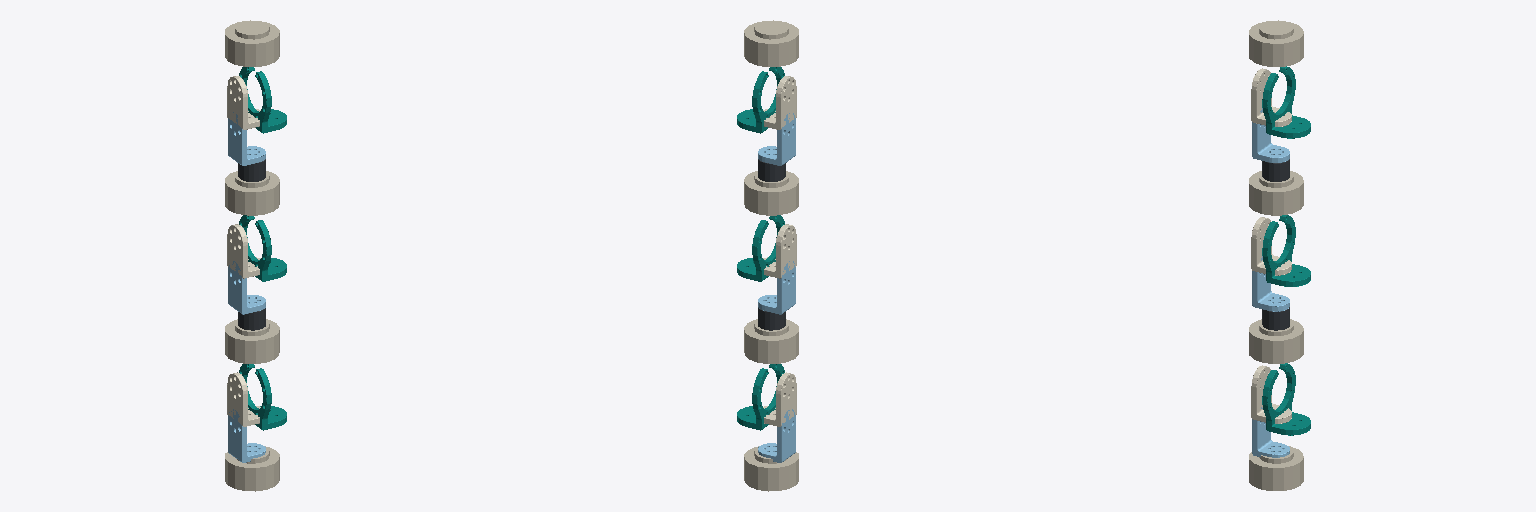
robot.urdf — simple_assembly:
<!--URDF generated by ONSHAPE BY PTC INC, 1.213-->
<robot name="simple_assembly">
    <link name="part_1">
        <inertial>
            <mass value="0.392289" />
            <origin xyz="-7.19431e-18 2.31112e-33 0.02825" rpy="0 -0 0" />
            <inertia ixx="0.000184016" ixy="0" ixz="0" iyy="0.000184016" iyz="0" izz="0.000159318" />
        </inertial>
        <visual>
            <origin xyz="-5.31105e-18 -1.74512e-18 0" rpy="0 -0 0" />
            <geometry>
                <mesh filename="package://simple_assembly/meshes/Part 1.stl" scale="1 1 1" />
            </geometry>
            <material name="0.800000_0.776471_0.713725_0.000000_0.000000">
                <texture />
                <color rgba="0.8 0.776471 0.713726 1" />
            </material>
        </visual>
    </link>
    <link name="part_1_1">
        <inertial>
            <mass value="0.347331" />
            <origin xyz="0.020796 1.20964e-08 -0.0428943" rpy="0 -0 0" />
            <inertia ixx="0.000768882" ixy="-1.68717e-10" ixz="0.000128098" iyy="0.00060734" iyz="8.33311e-11" izz="0.000443472" />
        </inertial>
        <visual>
            <origin xyz="1.47451e-17 5.86445e-18 -0.06225" rpy="0 -0 0" />
            <geometry>
                <mesh filename="package://simple_assembly/meshes/Part 1_1.stl" scale="1 1 1" />
            </geometry>
            <material name="0.094118_0.580392_0.545098_0.000000_0.000000">
                <texture />
                <color rgba="0.0941176 0.580392 0.545098 1" />
            </material>
        </visual>
    </link>
    <link name="part_1_10">
        <inertial>
            <mass value="0.347331" />
            <origin xyz="0.020796 1.20964e-08 -0.0428943" rpy="0 -0 0" />
            <inertia ixx="0.000768882" ixy="-1.68717e-10" ixz="0.000128098" iyy="0.00060734" iyz="8.33311e-11" izz="0.000443472" />
        </inertial>
        <visual>
            <origin xyz="1.47451e-17 5.86445e-18 -0.06225" rpy="0 -0 0" />
            <geometry>
                <mesh filename="package://simple_assembly/meshes/Part 1_1.stl" scale="1 1 1" />
            </geometry>
            <material name="0.094118_0.580392_0.545098_0.000000_0.000000">
                <texture />
                <color rgba="0.0941176 0.580392 0.545098 1" />
            </material>
        </visual>
    </link>
    <link name="part_1_11">
        <inertial>
            <mass value="0.284011" />
            <origin xyz="-0.0234111 -2.25131e-10 0.0361492" rpy="0 -0 0" />
            <inertia ixx="0.000368023" ixy="4.4845e-12" ixz="8.61899e-05" iyy="0.000382149" iyz="-7.95148e-12" izz="0.000153368" />
        </inertial>
        <visual>
            <origin xyz="0 0 -0.0002" rpy="0 -0 0" />
            <geometry>
                <mesh filename="package://simple_assembly/meshes/Part 1_3.stl" scale="1 1 1" />
            </geometry>
            <material name="0.615686_0.811765_0.929412_0.000000_0.000000">
                <texture />
                <color rgba="0.615686 0.811765 0.929412 1" />
            </material>
        </visual>
    </link>
    <link name="part_1_12">
        <inertial>
            <mass value="0.392289" />
            <origin xyz="-1.88325e-18 2.31112e-33 0.02825" rpy="0 -0 0" />
            <inertia ixx="0.000184016" ixy="0" ixz="0" iyy="0.000184016" iyz="0" izz="0.000159318" />
        </inertial>
        <visual>
            <origin xyz="0 -1.74512e-18 0" rpy="0 -0 0" />
            <geometry>
                <mesh filename="package://simple_assembly/meshes/Part 1.stl" scale="1 1 1" />
            </geometry>
            <material name="0.800000_0.776471_0.713725_0.000000_0.000000">
                <texture />
                <color rgba="0.8 0.776471 0.713726 1" />
            </material>
        </visual>
    </link>
    <link name="part_1_13">
        <inertial>
            <mass value="0.284011" />
            <origin xyz="-0.0234111 -2.25131e-10 0.0361492" rpy="0 -0 0" />
            <inertia ixx="0.000368023" ixy="4.4845e-12" ixz="8.61899e-05" iyy="0.000382149" iyz="-7.95148e-12" izz="0.000153368" />
        </inertial>
        <visual>
            <origin xyz="0 0 -0.0002" rpy="0 -0 0" />
            <geometry>
                <mesh filename="package://simple_assembly/meshes/Part 1_3.stl" scale="1 1 1" />
            </geometry>
            <material name="0.615686_0.811765_0.929412_0.000000_0.000000">
                <texture />
                <color rgba="0.615686 0.811765 0.929412 1" />
            </material>
        </visual>
    </link>
    <link name="part_1_14">
        <inertial>
            <mass value="0.392289" />
            <origin xyz="-1.88325e-18 2.31112e-33 0.02825" rpy="0 -0 0" />
            <inertia ixx="0.000184016" ixy="0" ixz="0" iyy="0.000184016" iyz="0" izz="0.000159318" />
        </inertial>
        <visual>
            <origin xyz="0 -1.74512e-18 0" rpy="0 -0 0" />
            <geometry>
                <mesh filename="package://simple_assembly/meshes/Part 1.stl" scale="1 1 1" />
            </geometry>
            <material name="0.800000_0.776471_0.713725_0.000000_0.000000">
                <texture />
                <color rgba="0.8 0.776471 0.713726 1" />
            </material>
        </visual>
    </link>
    <link name="part_1_2">
        <inertial>
            <mass value="1.49866" />
            <origin xyz="-9.38573e-18 -8.98462e-20 0.028166" rpy="0 -0 0" />
            <inertia ixx="0.0015335" ixy="0" ixz="0" iyy="0.0015335" iyz="0" izz="0.00224985" />
        </inertial>
        <visual>
            <origin xyz="-1.10049e-17 -3.42901e-18 0" rpy="0 -0 0" />
            <geometry>
                <mesh filename="package://simple_assembly/meshes/Part 1_2.stl" scale="1 1 1" />
            </geometry>
            <material name="0.901961_0.878431_0.811765_0.000000_0.000000">
                <texture />
                <color rgba="0.901961 0.878431 0.811765 1" />
            </material>
        </visual>
    </link>
    <link name="part_1_3">
        <inertial>
            <mass value="1.49866" />
            <origin xyz="1.61912e-18 -8.98462e-20 0.028166" rpy="0 -0 0" />
            <inertia ixx="0.0015335" ixy="0" ixz="0" iyy="0.0015335" iyz="0" izz="0.00224985" />
        </inertial>
        <visual>
            <origin xyz="0 -3.42901e-18 0" rpy="0 -0 0" />
            <geometry>
                <mesh filename="package://simple_assembly/meshes/Part 1_2.stl" scale="1 1 1" />
            </geometry>
            <material name="0.901961_0.878431_0.811765_0.000000_0.000000">
                <texture />
                <color rgba="0.901961 0.878431 0.811765 1" />
            </material>
        </visual>
    </link>
    <link name="part_1_4">
        <inertial>
            <mass value="0.284011" />
            <origin xyz="-0.0234111 -2.25131e-10 0.0361492" rpy="0 -0 0" />
            <inertia ixx="0.000368023" ixy="4.4845e-12" ixz="8.61899e-05" iyy="0.000382149" iyz="-7.95148e-12" izz="0.000153368" />
        </inertial>
        <visual>
            <origin xyz="0 0 -0.0002" rpy="0 -0 0" />
            <geometry>
                <mesh filename="package://simple_assembly/meshes/Part 1_3.stl" scale="1 1 1" />
            </geometry>
            <material name="0.615686_0.811765_0.929412_0.000000_0.000000">
                <texture />
                <color rgba="0.615686 0.811765 0.929412 1" />
            </material>
        </visual>
    </link>
    <link name="part_1_5">
        <inertial>
            <mass value="0.319085" />
            <origin xyz="-3.6505e-08 -1.40559e-08 0.0234998" rpy="0 -0 0" />
            <inertia ixx="0.000124216" ixy="-2.09268e-14" ixz="-2.75013e-13" iyy="0.000124216" iyz="1.7298e-13" izz="0.000131075" />
        </inertial>
        <visual>
            <origin xyz="-3.67805e-08 -1.40564e-08 0" rpy="0 -0 0" />
            <geometry>
                <mesh filename="package://simple_assembly/meshes/Part 1_4.stl" scale="1 1 1" />
            </geometry>
            <material name="0.262745_0.282353_0.301961_0.000000_0.000000">
                <texture />
                <color rgba="0.262745 0.282353 0.301961 1" />
            </material>
        </visual>
    </link>
    <link name="part_1_6">
        <inertial>
            <mass value="0.347331" />
            <origin xyz="0.020796 1.20964e-08 -0.0428943" rpy="0 -0 0" />
            <inertia ixx="0.000768882" ixy="-1.68717e-10" ixz="0.000128098" iyy="0.00060734" iyz="8.33311e-11" izz="0.000443472" />
        </inertial>
        <visual>
            <origin xyz="1.47451e-17 5.86445e-18 -0.06225" rpy="0 -0 0" />
            <geometry>
                <mesh filename="package://simple_assembly/meshes/Part 1_1.stl" scale="1 1 1" />
            </geometry>
            <material name="0.094118_0.580392_0.545098_0.000000_0.000000">
                <texture />
                <color rgba="0.0941176 0.580392 0.545098 1" />
            </material>
        </visual>
    </link>
    <link name="part_1_7">
        <inertial>
            <mass value="1.49866" />
            <origin xyz="1.61912e-18 -8.98462e-20 0.028166" rpy="0 -0 0" />
            <inertia ixx="0.0015335" ixy="0" ixz="0" iyy="0.0015335" iyz="0" izz="0.00224985" />
        </inertial>
        <visual>
            <origin xyz="0 -3.42901e-18 0" rpy="0 -0 0" />
            <geometry>
                <mesh filename="package://simple_assembly/meshes/Part 1_2.stl" scale="1 1 1" />
            </geometry>
            <material name="0.901961_0.878431_0.811765_0.000000_0.000000">
                <texture />
                <color rgba="0.901961 0.878431 0.811765 1" />
            </material>
        </visual>
    </link>
    <link name="part_1_8">
        <inertial>
            <mass value="0.392289" />
            <origin xyz="-1.88325e-18 2.31112e-33 0.02825" rpy="0 -0 0" />
            <inertia ixx="0.000184016" ixy="0" ixz="0" iyy="0.000184016" iyz="0" izz="0.000159318" />
        </inertial>
        <visual>
            <origin xyz="0 -1.74512e-18 0" rpy="0 -0 0" />
            <geometry>
                <mesh filename="package://simple_assembly/meshes/Part 1.stl" scale="1 1 1" />
            </geometry>
            <material name="0.800000_0.776471_0.713725_0.000000_0.000000">
                <texture />
                <color rgba="0.8 0.776471 0.713726 1" />
            </material>
        </visual>
    </link>
    <link name="part_1_9">
        <inertial>
            <mass value="0.319085" />
            <origin xyz="-3.6505e-08 -1.40559e-08 0.0234998" rpy="0 -0 0" />
            <inertia ixx="0.000124216" ixy="-2.09268e-14" ixz="-2.75013e-13" iyy="0.000124216" iyz="1.7298e-13" izz="0.000131075" />
        </inertial>
        <visual>
            <origin xyz="-3.67805e-08 -1.40564e-08 0" rpy="0 -0 0" />
            <geometry>
                <mesh filename="package://simple_assembly/meshes/Part 1_4.stl" scale="1 1 1" />
            </geometry>
            <material name="0.262745_0.282353_0.301961_0.000000_0.000000">
                <texture />
                <color rgba="0.262745 0.282353 0.301961 1" />
            </material>
        </visual>
    </link>
    <link name="root" />
    <link name="wrist_link" />
    <joint name="fastened_1_0" type="fixed">
        <origin xyz="0 0 0" rpy="0 0 0" />
        <axis xyz="0 0 -1" />
        <parent link="root" />
        <child link="part_1_12" />
    </joint>
    <joint name="fastened_2_0" type="fixed">
        <origin xyz="0 0 0.062" rpy="0 0 0" />
        <axis xyz="-1 0 0" />
        <parent link="part_1_7" />
        <child link="part_1_6" />
    </joint>
    <!-- combined xyz length: sqrt(0.0352^2 + 0.0750^2) ≈ 0.083 -->
    <joint name="fastened_3_0" type="fixed">
        <origin xyz="0 0 0.083" rpy="0 0 0" />
        <axis xyz="0 0 -1" />
        <parent link="part_1_6" />
        <child link="part_1_14" />
    </joint>
    <joint name="fastened_4_0" type="fixed">
        <origin xyz="0 0 0.047" rpy="0 0 0" />
        <axis xyz="0 0 -1" />
        <parent link="part_1_9" />
        <child link="part_1_11" />
    </joint>
    <joint name="fastened_5_0" type="fixed">
        <origin xyz="0 0 0.062" rpy="0 0 0" />
        <axis xyz="-1 0 0" />
        <parent link="part_1_2" />
        <child link="part_1_1" />
    </joint>
    <joint name="fastened_6_0" type="fixed">
        <origin xyz="0 0 0.083" rpy="0 0 0" />
        <axis xyz="0 0 -1" />
        <parent link="part_1_1" />
        <child link="part_1" />
    </joint>
    <joint name="fastened_7_0" type="fixed">
        <origin xyz="0 0 0.047" rpy="0 0 0" />
        <axis xyz="0 0 -1" />
        <parent link="part_1_5" />
        <child link="part_1_4" />
    </joint>
    <joint name="fastened_8_0" type="fixed">
        <origin xyz="0 0 0.062" rpy="0 0 0" />
        <axis xyz="-1 0 0" />
        <parent link="part_1_3" />
        <child link="part_1_10" />
    </joint>
    <joint name="fastened_9_0" type="fixed">
        <origin xyz="0 0 0.083" rpy="0 0 0" />
        <axis xyz="0 0 -1" />
        <parent link="part_1_10" />
        <child link="part_1_8" />
    </joint>
    <!-- revolute_1_0: Z-type (DM10010), base joint — +/-360 deg from home -->
    <joint name="revolute_1_0" type="revolute">
        <origin xyz="0 0 0.0565" rpy="0 0 0" />
        <axis xyz="0 0 1" />
        <parent link="part_1_12" />
        <child link="part_1_13" />
        <limit lower="-6.28318" upper="6.28318" effort="150.0" velocity="15.71" />
    </joint>
    <!-- revolute_2_0: first Y-type (DM4340) from bottom — +/-90 deg from home -->
    <joint name="revolute_2_0" type="revolute">
        <origin xyz="0 0 0.0815" rpy="0 0 0" />
        <axis xyz="0 1 0" />
        <parent link="part_1_13" />
        <child link="part_1_7" />
        <limit lower="-1.5708" upper="1.5708" effort="27.0" velocity="5.45" />
    </joint>
    <!-- revolute_3_0: Z-type (DM10010) — +/-360 deg from home -->
    <joint name="revolute_3_0" type="revolute">
        <origin xyz="0 0 0.0565" rpy="0 0 0" />
        <axis xyz="0 0 1" />
        <parent link="part_1_14" />
        <child link="part_1_9" />
        <limit lower="-6.28318" upper="6.28318" effort="150.0" velocity="15.71" />
    </joint>
    <!-- revolute_4_0: Y-type (DM4340) — +/-110 deg from home -->
    <joint name="revolute_4_0" type="revolute">
        <origin xyz="0 0 0.0815" rpy="0 0 0" />
        <axis xyz="0 1 0" />
        <parent link="part_1_11" />
        <child link="part_1_2" />
        <limit lower="-1.91986" upper="1.91986" effort="27.0" velocity="5.45" />
    </joint>
    <!-- revolute_5_0: Z-type (DM10010) — +/-360 deg from home -->
    <joint name="revolute_5_0" type="revolute">
        <origin xyz="0 0 0.0565" rpy="0 0 0" />
        <axis xyz="0 0 1" />
        <parent link="part_1" />
        <child link="part_1_5" />
        <limit lower="-6.28318" upper="6.28318" effort="150.0" velocity="15.71" />
    </joint>
    <!-- revolute_6_0: Y-type (DM4340) — +/-110 deg from home -->
    <joint name="revolute_6_0" type="revolute">
        <origin xyz="0 0 0.0815" rpy="0 0 0" />
        <axis xyz="0 1 0" />
        <parent link="part_1_4" />
        <child link="part_1_3" />
        <limit lower="-1.91986" upper="1.91986" effort="27.0" velocity="5.45" />
    </joint>
    <!-- revolute_7_0: Z-type (DM10010), wrist/tip — +/-360 deg from home -->
    <joint name="revolute_7_0" type="revolute">
        <origin xyz="0 0 0" rpy="0 0 1.5708" />
        <axis xyz="0 0 1" />
        <parent link="part_1_8" />
        <child link="wrist_link" />
        <limit lower="-6.28318" upper="6.28318" effort="150.0" velocity="15.71" />
    </joint>
</robot>

--- What the picture shows (computed from the rendered views, not written in the file) ---
3 views of the same robot in one strip: view 1: azimuth 30°, elevation 25°; view 2: azimuth 150°, elevation 25°; view 3: azimuth 330°, elevation 25° (orthographic).
Model simple_assembly with 17 links and 16 joints (7 revolute, 9 fixed), rooted at root, posed all joints at 0.
Visible links, largest first — view 1: part_1_8, part_1, part_1_14, part_1_12, part_1_6, part_1_10, part_1_1, part_1_3, part_1_2, part_1_7, part_1_11, part_1_4 (+1 smaller); view 2: part_1_8, part_1, part_1_14, part_1_12, part_1_6, part_1_10, part_1_1, part_1_3, part_1_2, part_1_7, part_1_11, part_1_4 (+1 smaller); view 3: part_1_8, part_1, part_1_14, part_1_12, part_1_6, part_1_1, part_1_10, part_1_11, part_1_4, part_1_2, part_1_7, part_1_3 (+1 smaller).
Boxes of the visible links, x1,y1,x2,y2 form: part_1_8: (225,20,279,66); part_1: (225,171,279,215); part_1_14: (225,319,279,363); part_1_12: (225,446,279,491); part_1_6: (239,364,286,430); part_1_10: (239,67,286,133); part_1_1: (239,215,286,281); part_1_3: (227,76,260,129); part_1_2: (227,224,260,278); part_1_7: (227,372,260,426); part_1_11: (228,261,265,314); part_1_4: (228,112,265,165); part_1_8: (744,20,798,66); part_1: (744,171,798,215); part_1_14: (744,319,798,363); part_1_12: (744,446,798,491); part_1_6: (737,364,784,430); part_1_10: (737,67,784,133); part_1_1: (737,215,784,281); part_1_3: (763,76,796,129); part_1_2: (763,224,796,278); part_1_7: (763,372,796,426); part_1_11: (758,261,795,314); part_1_4: (758,113,795,165); part_1_8: (1249,20,1303,66); part_1: (1249,171,1303,215); part_1_14: (1249,319,1303,363); part_1_12: (1249,446,1303,490); part_1_6: (1262,363,1310,435); part_1_1: (1262,215,1310,286); part_1_10: (1262,66,1310,138); part_1_11: (1252,256,1289,311); part_1_4: (1252,108,1289,162); part_1_2: (1251,217,1291,275); part_1_7: (1251,365,1291,423); part_1_3: (1251,68,1291,126).
Bounding box of the posed robot: 0.1307 × 0.1141 × 1 m (x, y, z).
15 mesh visuals loaded from 5 distinct referenced files (5 ASCII STL).
